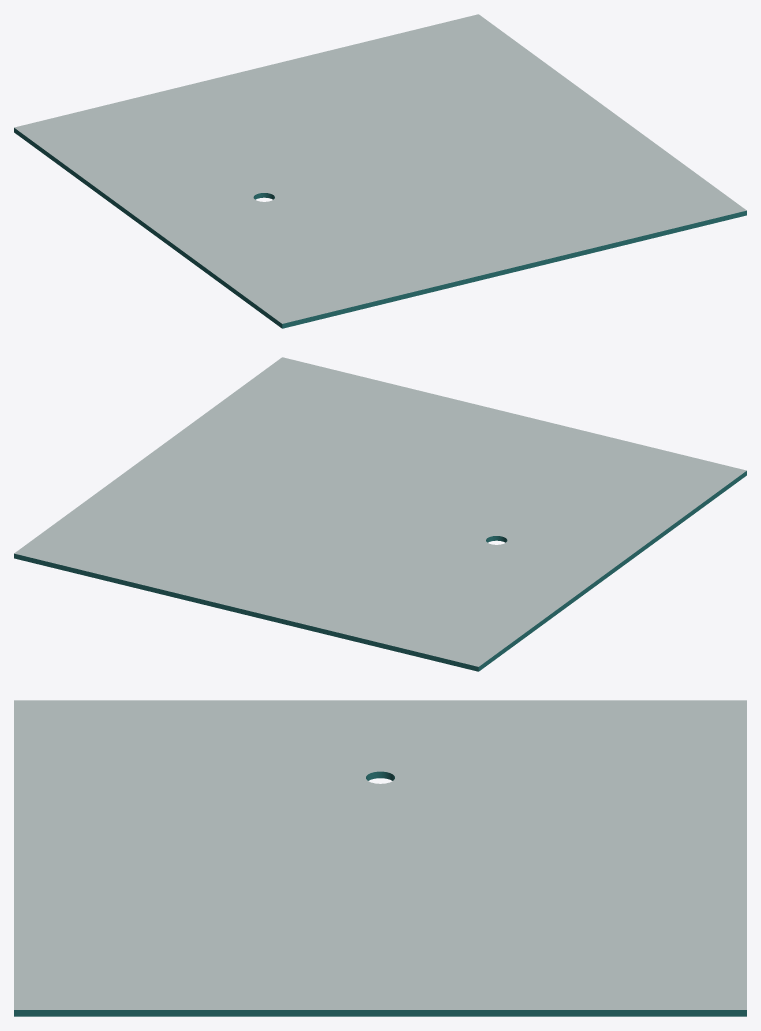
File: IceCircleHole.fbx
3 views of the same model, one above another, from view 1: azimuth 30°, elevation 25°; view 2: azimuth 150°, elevation 25°; view 3: azimuth 270°, elevation 25° (orthographic). The views are drawn at different scales.
Parts seen in each view (by area): view 1: IceWithHole; view 2: IceWithHole; view 3: IceWithHole.
Boxes of the visible parts, box(x1,y1,x2,y2) form: IceWithHole: box(14, 14, 746, 328); IceWithHole: box(14, 357, 746, 671); IceWithHole: box(14, 700, 746, 1016).
Bounding box in the file's own units: 100 × 1 × 100.
